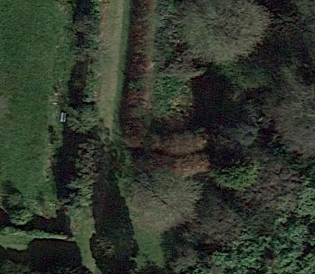tree: (216, 100, 265, 149), (209, 153, 262, 197), (58, 98, 107, 139), (1, 184, 27, 208)
